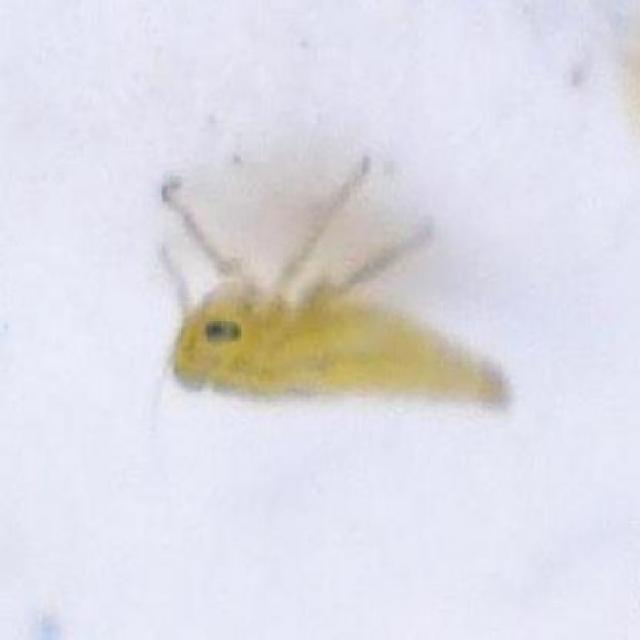green-leafhopper: (158, 256, 520, 418)
